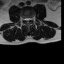CCS_normal: (26, 16, 28, 24)
LFS_normal: (30, 16, 32, 22)
LLS_normal: (28, 16, 30, 21)
RFS_normal: (22, 16, 24, 21)
RLS_normal: (24, 16, 26, 22)
